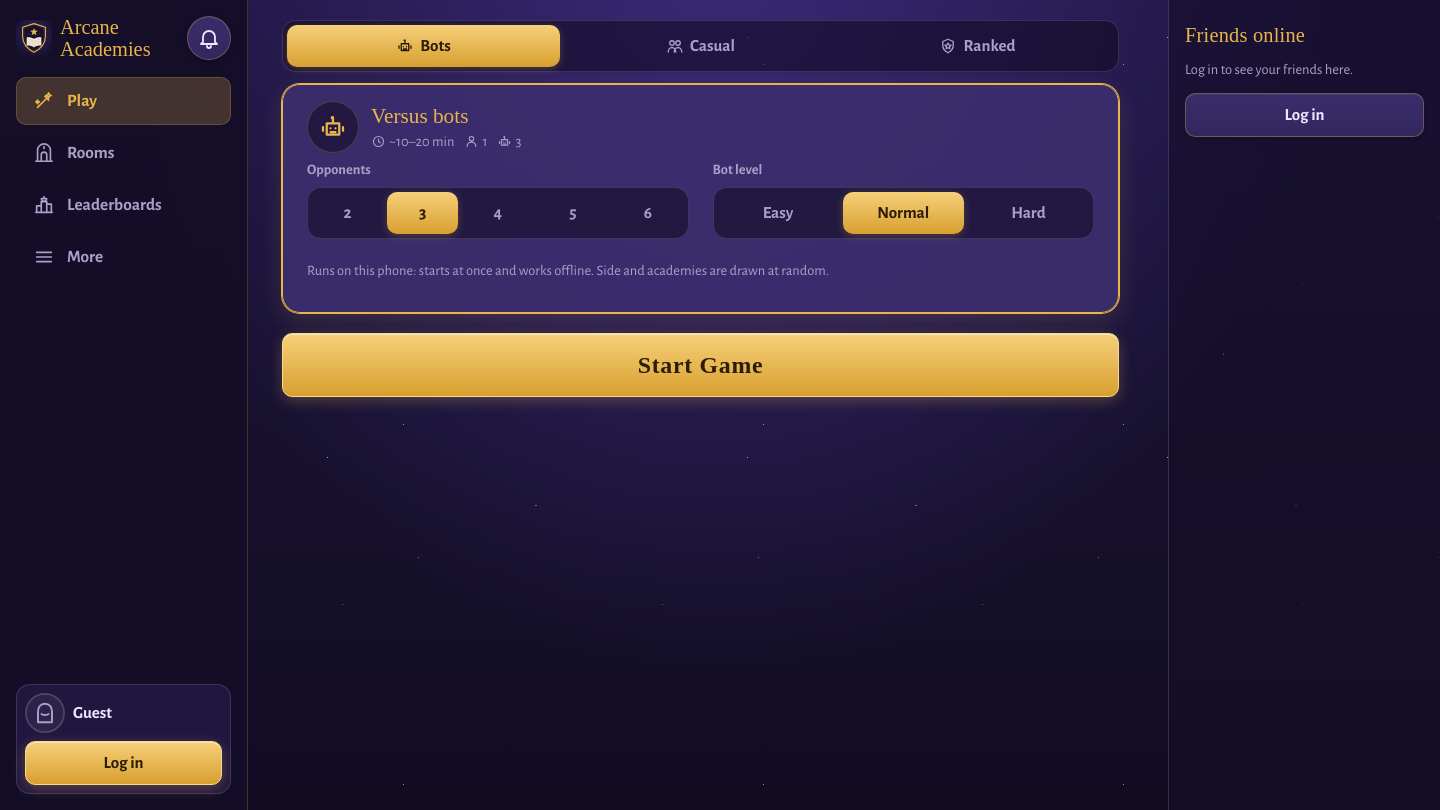
Feedback in More › asks guests to log in first
Click the button "More".
click(124, 257)  # box [16,233,231,281]
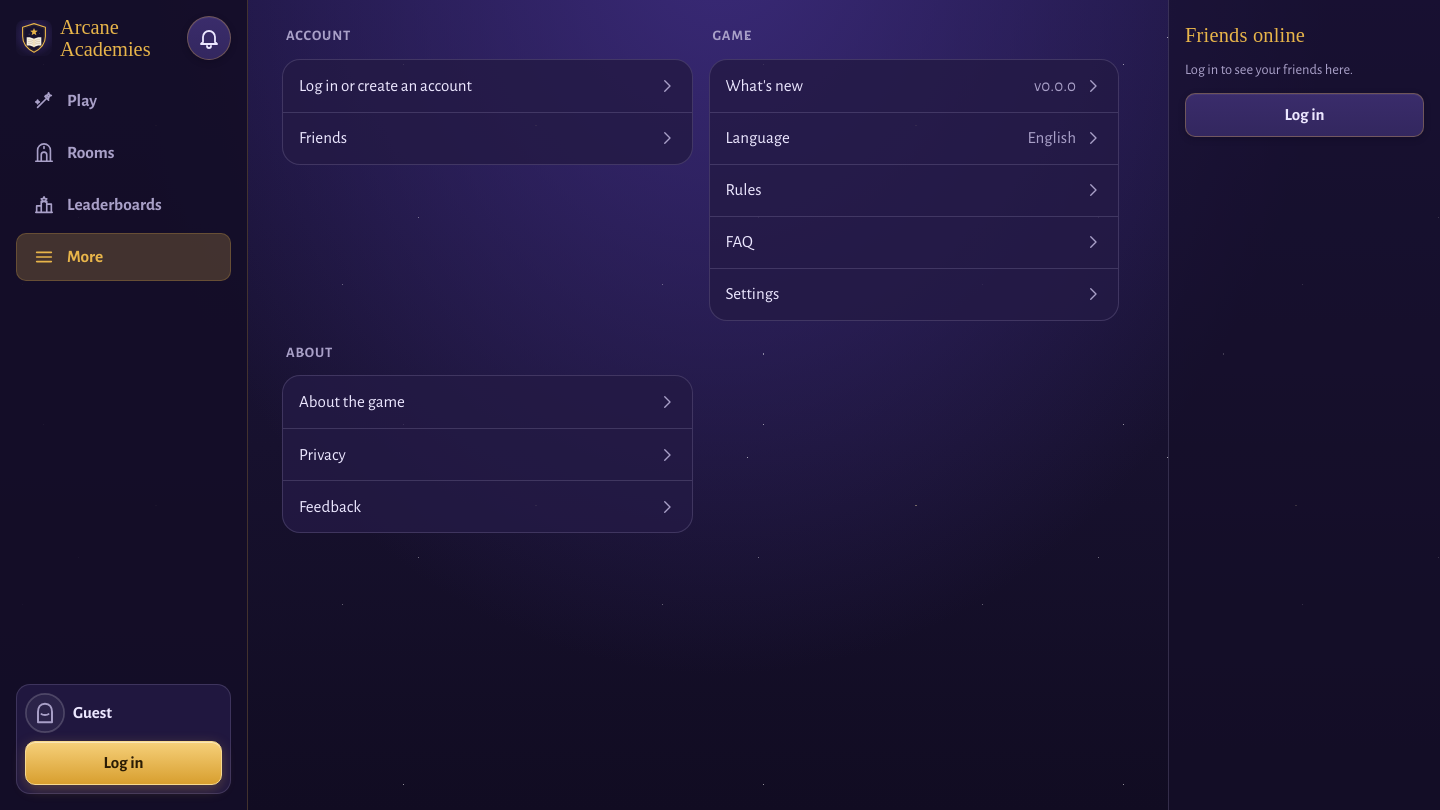
Click the button "Feedback".
click(330, 506)  # box [283,480,692,532]
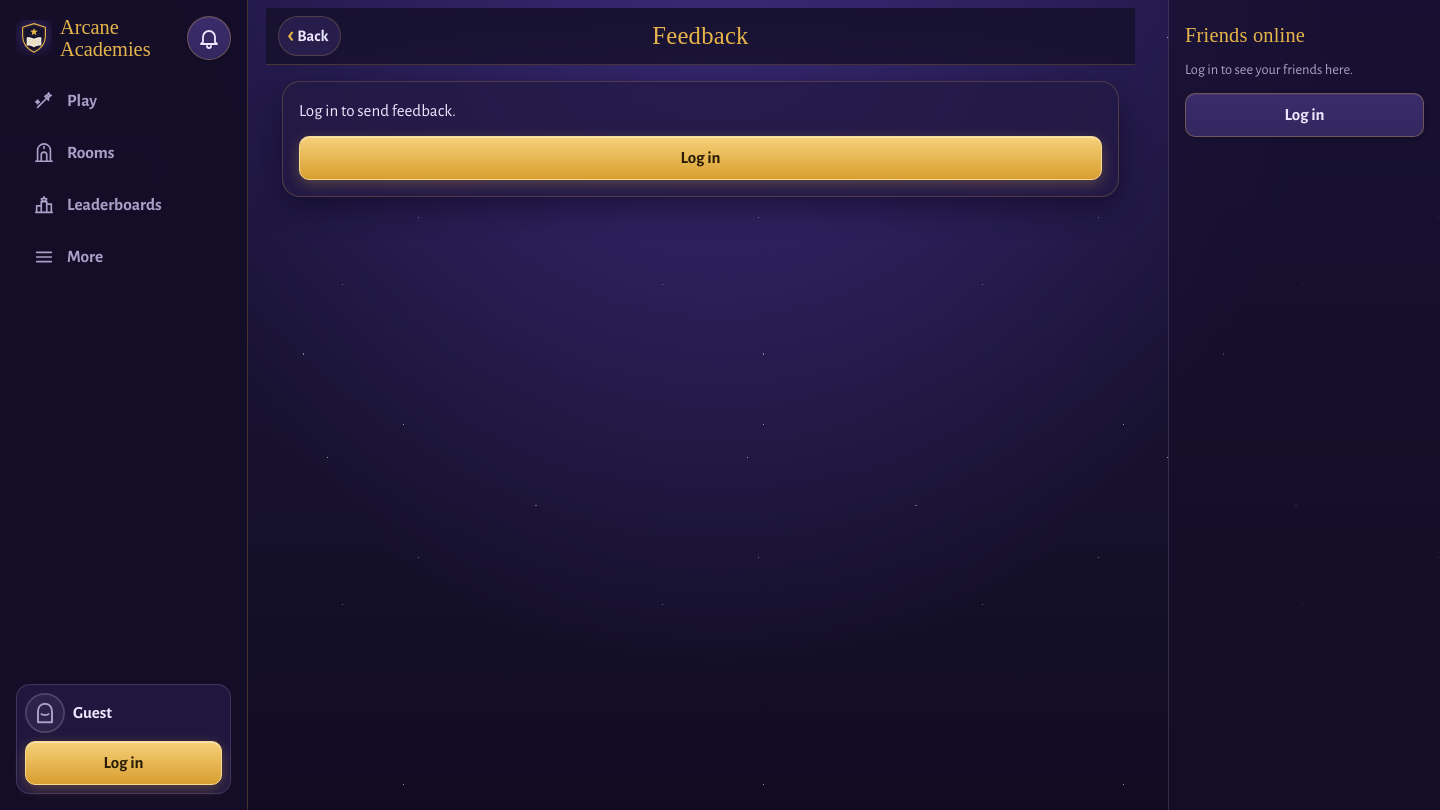
Expected: the text "Log in to send feedback." is shown, [299,102,456,119]
